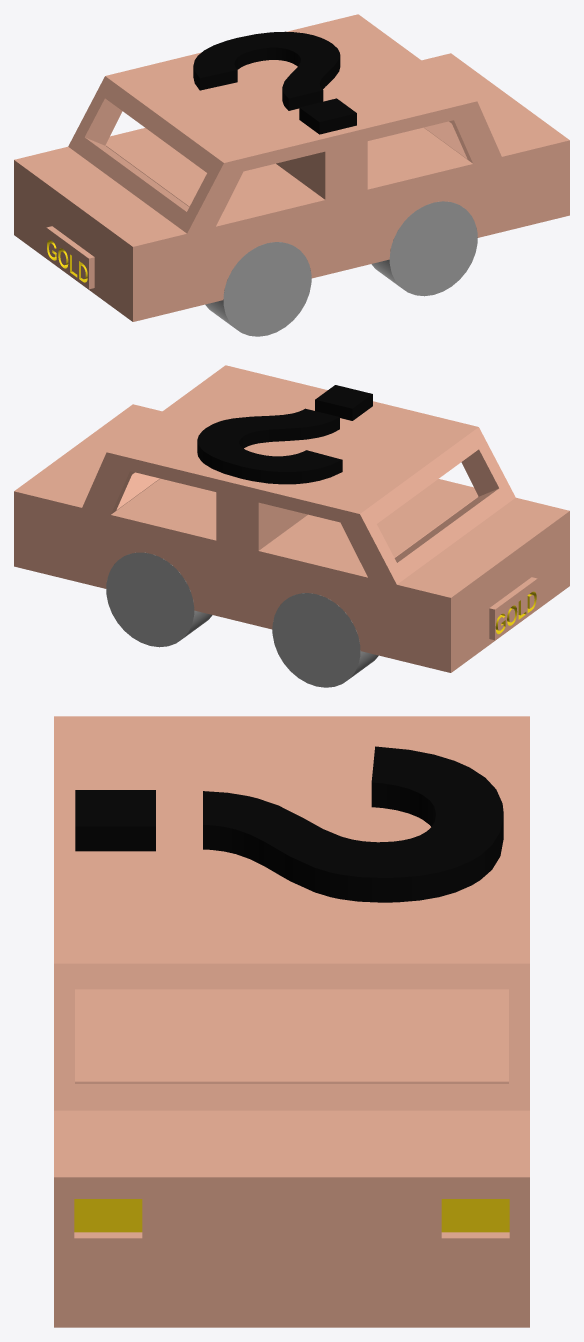
Rendered from Stan's Car.gltf.
The picture shows the model from 3 angles, top to bottom: view 1: azimuth 30°, elevation 25°; view 2: azimuth 150°, elevation 25°; view 3: azimuth 270°, elevation 25°; orthographic projection. The views are drawn at different scales.
Parts seen in each view (by area): view 1: Part 1, Part 2, Part 3, Part 6, Part 7; view 2: Part 1, Part 6, Part 4, Part 5, Part 7; view 3: Part 1, Part 6, Part 7.
Part boxes in pixels (x1,y1,x2,y2): Part 1: [14, 14, 569, 321]; Part 2: [205, 242, 311, 336]; Part 3: [371, 201, 477, 296]; Part 6: [193, 31, 340, 110]; Part 7: [299, 98, 356, 134]; Part 1: [14, 365, 569, 672]; Part 6: [197, 408, 342, 484]; Part 4: [272, 593, 378, 687]; Part 5: [106, 552, 212, 647]; Part 7: [315, 385, 372, 420]; Part 1: [54, 716, 529, 1327]; Part 6: [203, 746, 503, 902]; Part 7: [75, 790, 155, 851].
Bounding box in the file's own units: 0.1911 × 0.0805 × 0.0889.
